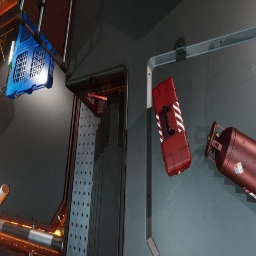0: (8, 41, 16, 75), (0, 184, 9, 204)
FirstAidBox ,: (152, 77, 191, 177)
NitrogenTank ,: (204, 121, 256, 199)
